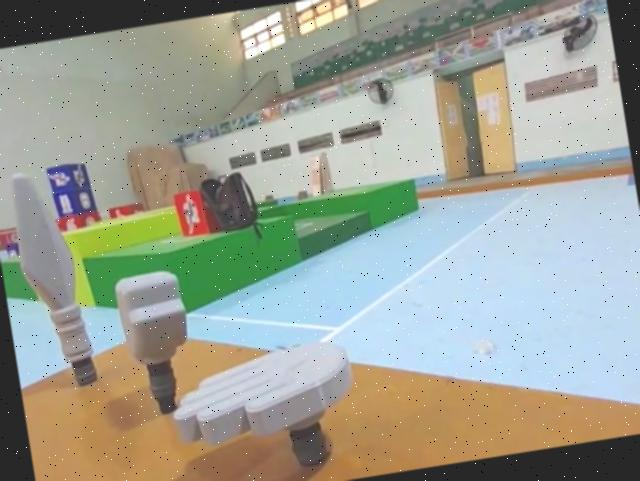Fist: (108, 260, 203, 421)
Hand: (157, 335, 358, 481)
Sph: (5, 160, 103, 406)
